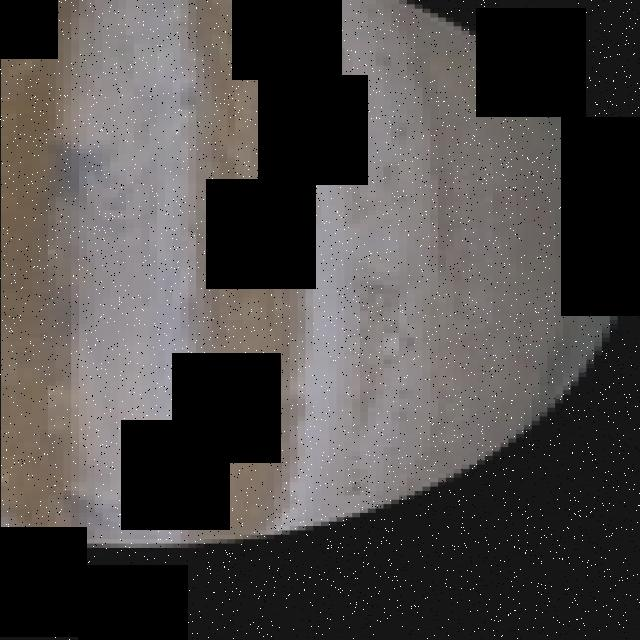Jupiter: (1, 0, 616, 548)
